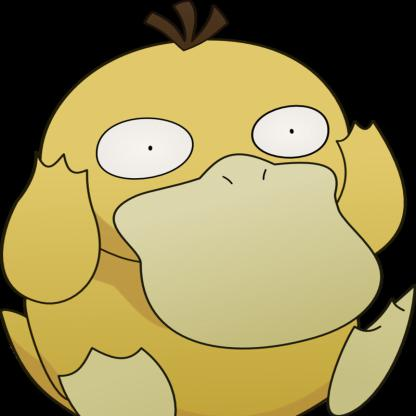Psyduck: (1, 1, 416, 416)
